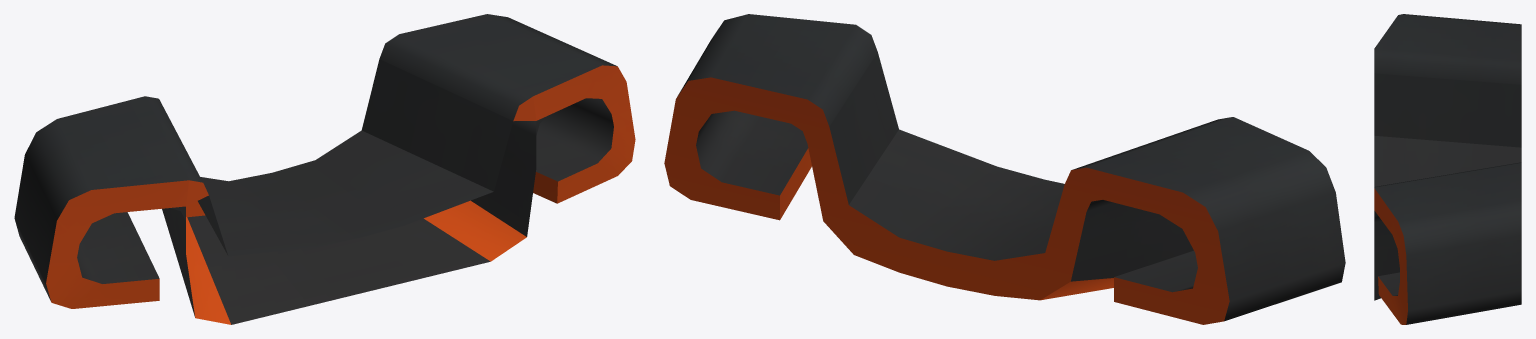
Rendered from Car_06_RearBumper_Simple.fbx.
3 renders of one model, left to right at view 1: azimuth 30°, elevation 25°; view 2: azimuth 150°, elevation 25°; view 3: azimuth 270°, elevation 25°, orthographic. The views are drawn at different scales.
Parts seen in each view (by area): view 1: Car_06_RearBumper_Simple; view 2: Car_06_RearBumper_Simple; view 3: Car_06_RearBumper_Simple.
Boxes of the visible parts, x1,y1,x2,y2 form: Car_06_RearBumper_Simple: [14, 14, 635, 324]; Car_06_RearBumper_Simple: [664, 14, 1345, 324]; Car_06_RearBumper_Simple: [1374, 14, 1521, 324].
Size of the model in its own units: 124 by 32.5 by 32.81.
